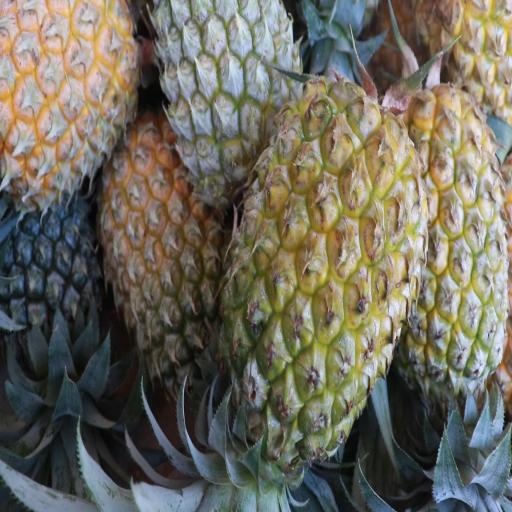------------------------------: (101, 116, 216, 375)
Pineapple - v8 v1: (224, 90, 426, 446), (394, 92, 508, 399), (0, 0, 136, 178)
